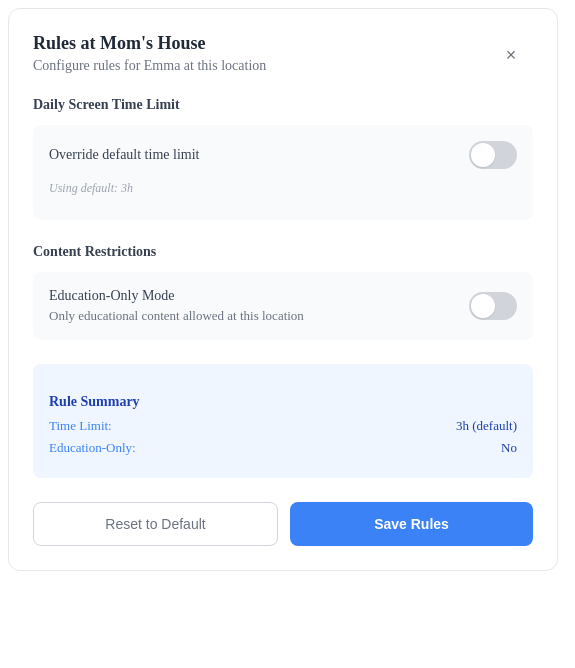
Scenario: LocationRuleEditor › Reset/Delete Rule › resets form when no existing rule and reset clicked
The width and height of the screenshot is (575, 668).
Note: Make some changes
Click the switch with test id "override-toggle".
click(493, 155)  # box 469,141 -> 517,169
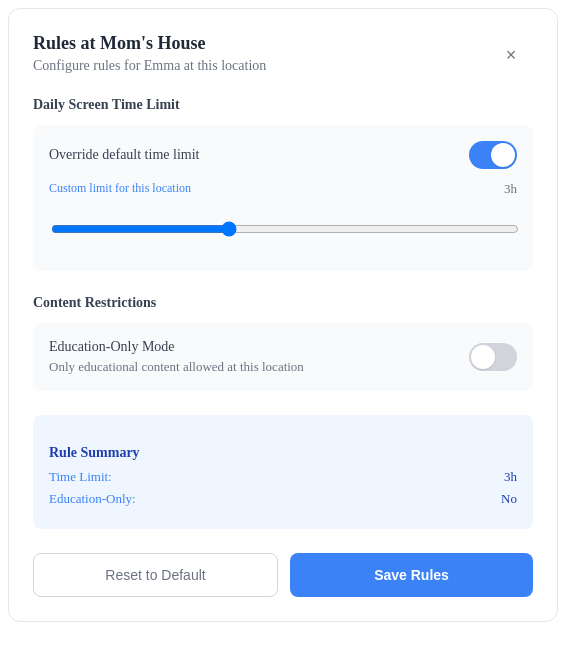
Set the slider with test id "time-slider" to "120" at (172, 229), box 51,207 -> 519,251
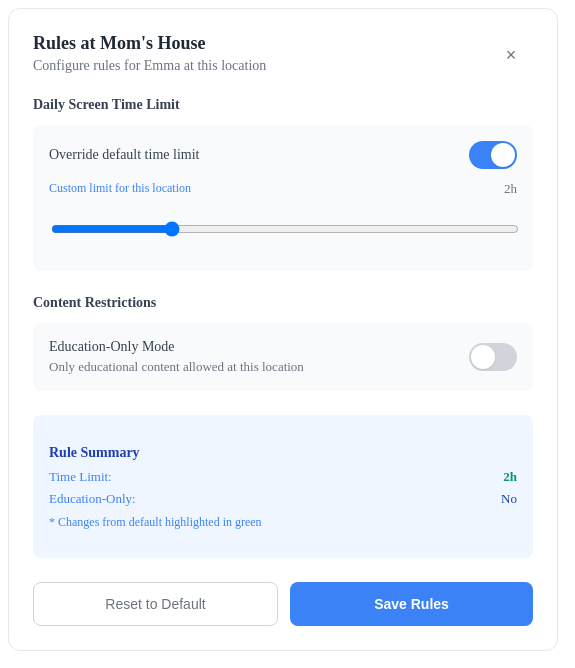
Note: Click reset
Click the button with test id "reset-button".
click(156, 604)  # box 33,582 -> 278,626
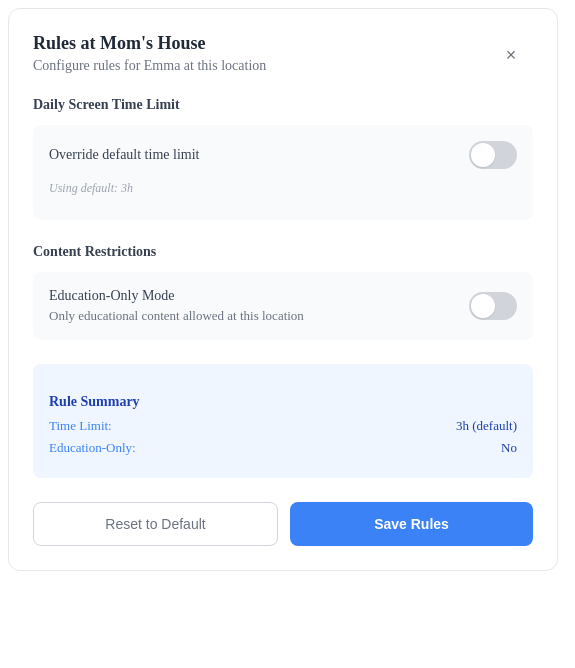
Check: the text "Using default: 3h" is shown, box 49,181 -> 133,196
